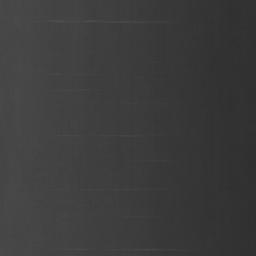Waist folding: (58, 248, 195, 256), (81, 187, 167, 196), (37, 19, 168, 24), (88, 134, 150, 139), (51, 72, 93, 77), (56, 89, 89, 93), (134, 160, 167, 164), (124, 215, 157, 219)
